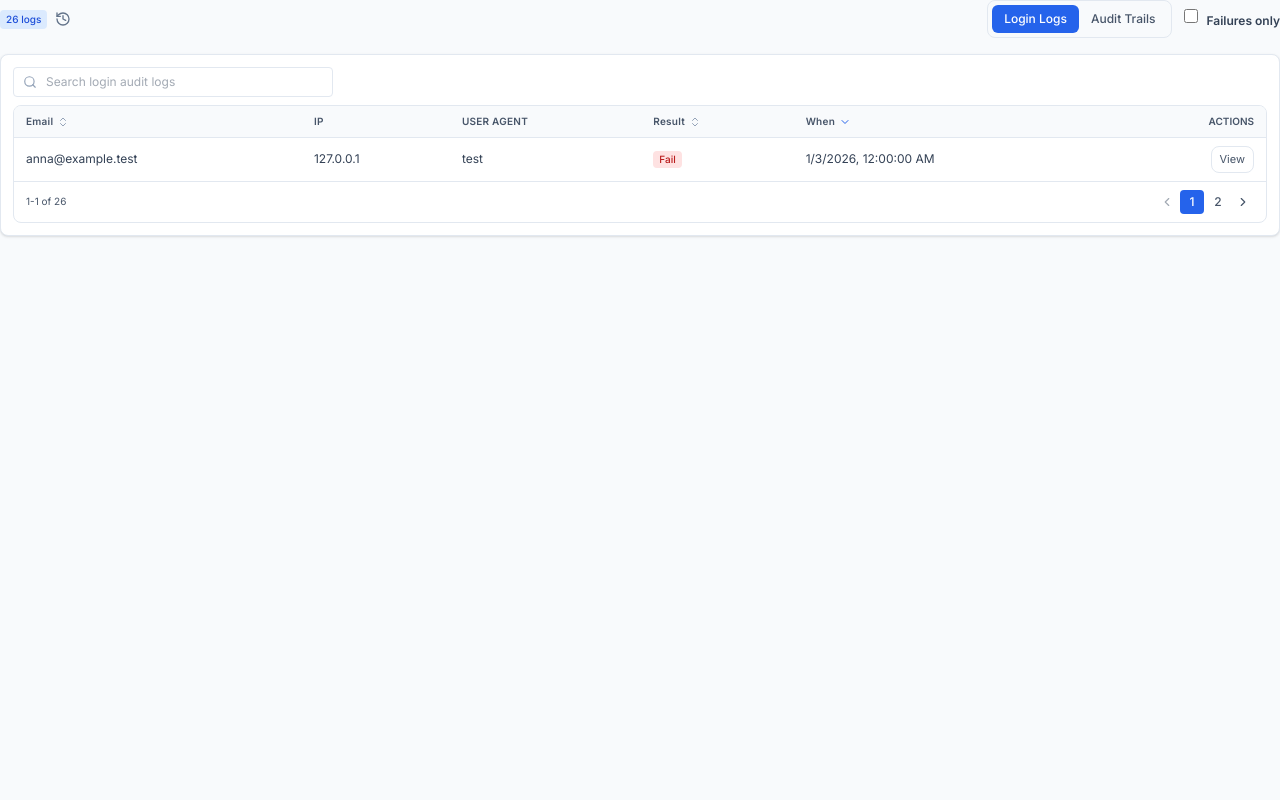
Scenario: Audit administration › renders every protected login and audit member when its permission is granted
Check: the text "anna@example.test" is shown, box [14,138,302,180]
Click the button "View" at (1232,159), box [1210,146,1254,172]
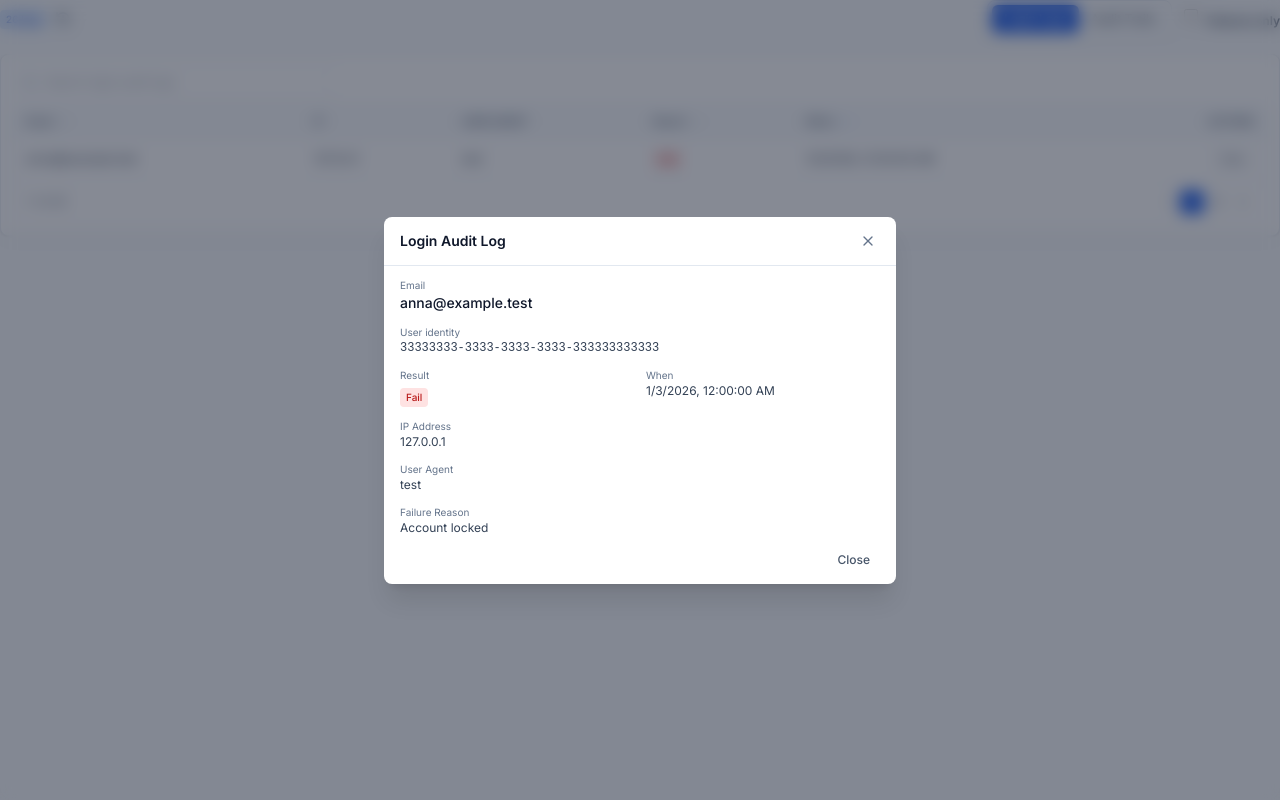
Check: the text "User identity" is shown, box [400,326,460,338]
Check: the text "33333333-3333-3333-3333-333333333333" is shown, box [400,340,659,354]
Click the button "Close" at (854,560), box [827,548,880,572]
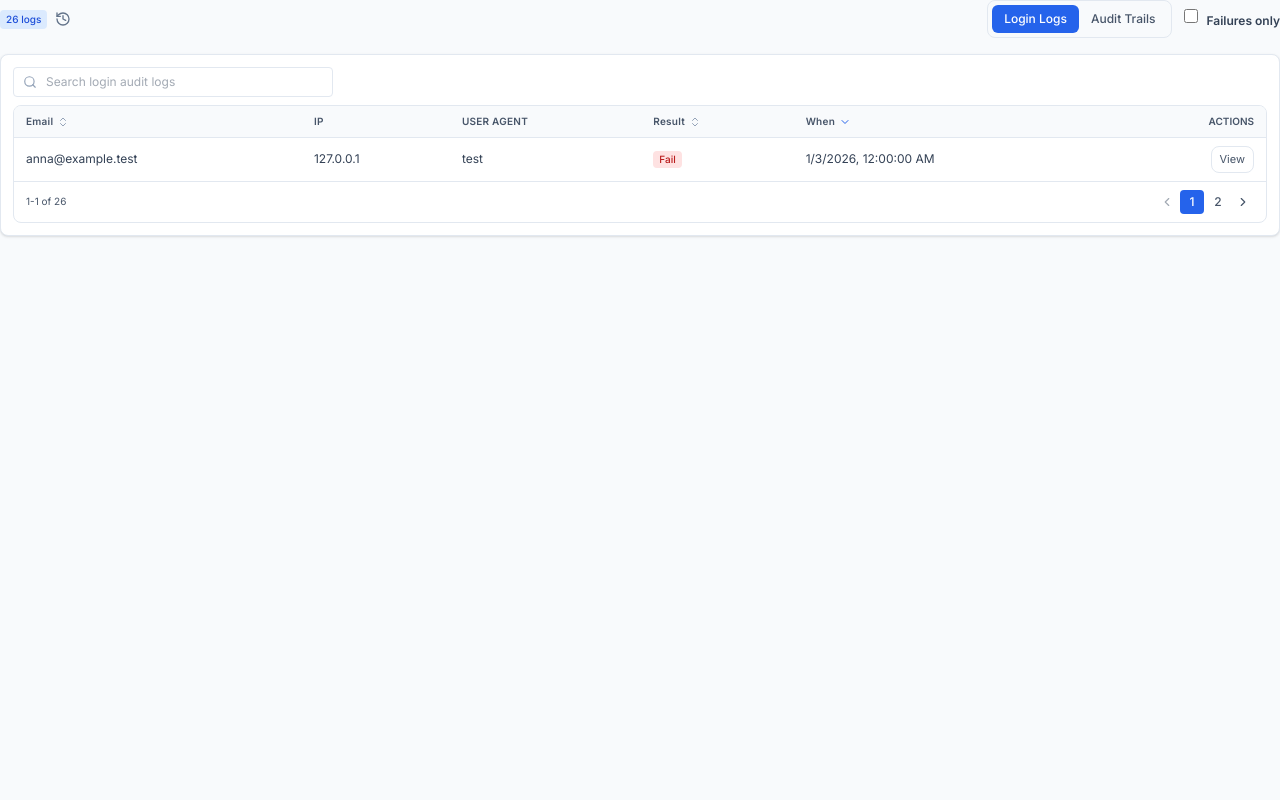
Click the button "Audit Trails" at (1123,19), box [1079,5,1168,33]
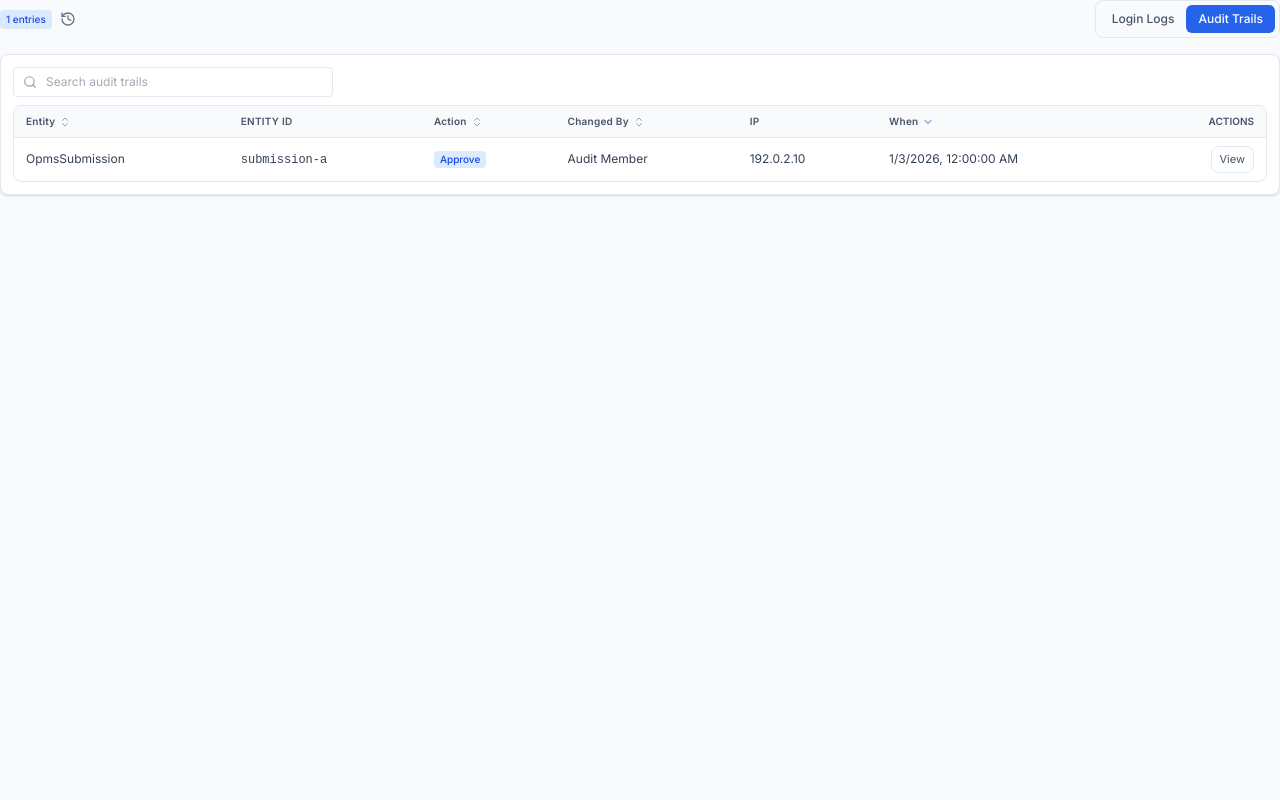
Check: the text "OpmsSubmission" is shown, box [14,138,229,180]
Click the button "View" at (1232,159), box [1210,146,1254,172]
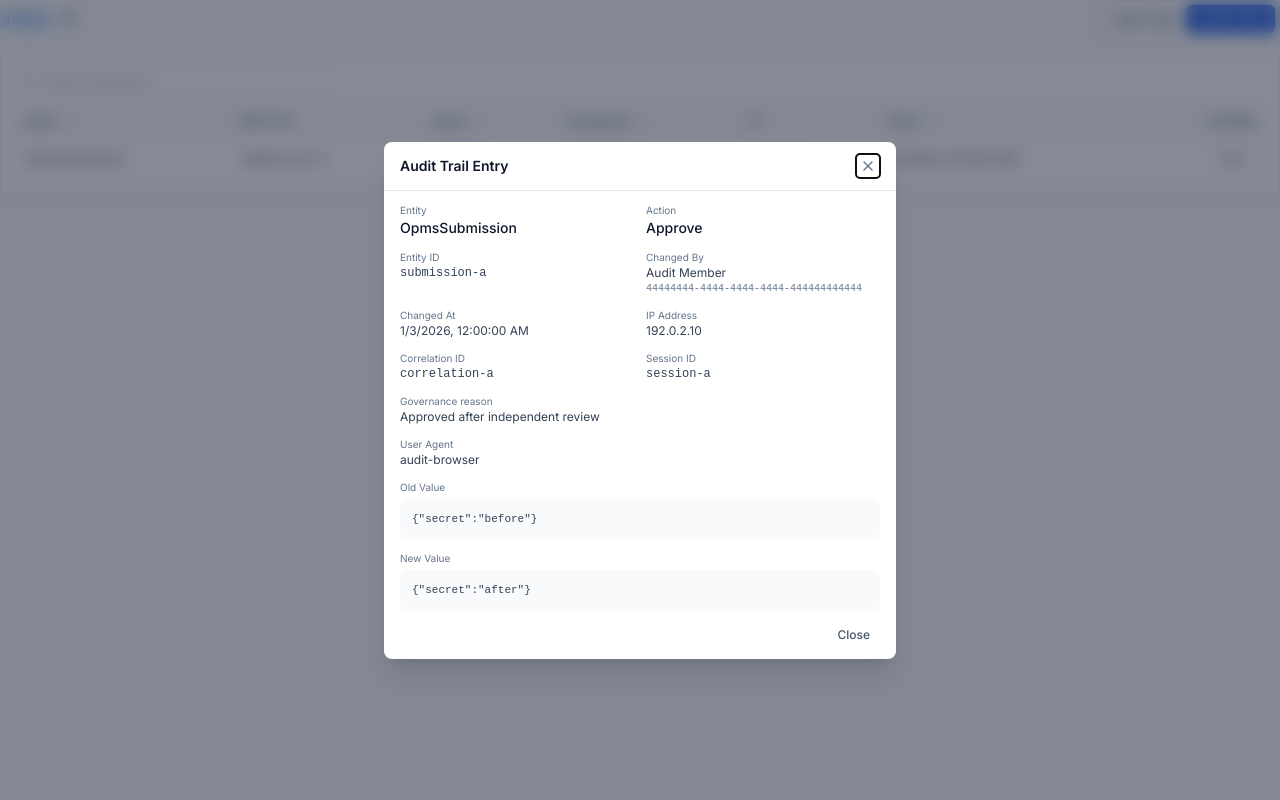
Check: the text "Correlation ID" is shown, box [400,352,465,364]
Check: the text "correlation-a" is shown, box [400,366,494,380]
Check: the text "Governance reason" is shown, box [400,394,493,406]
